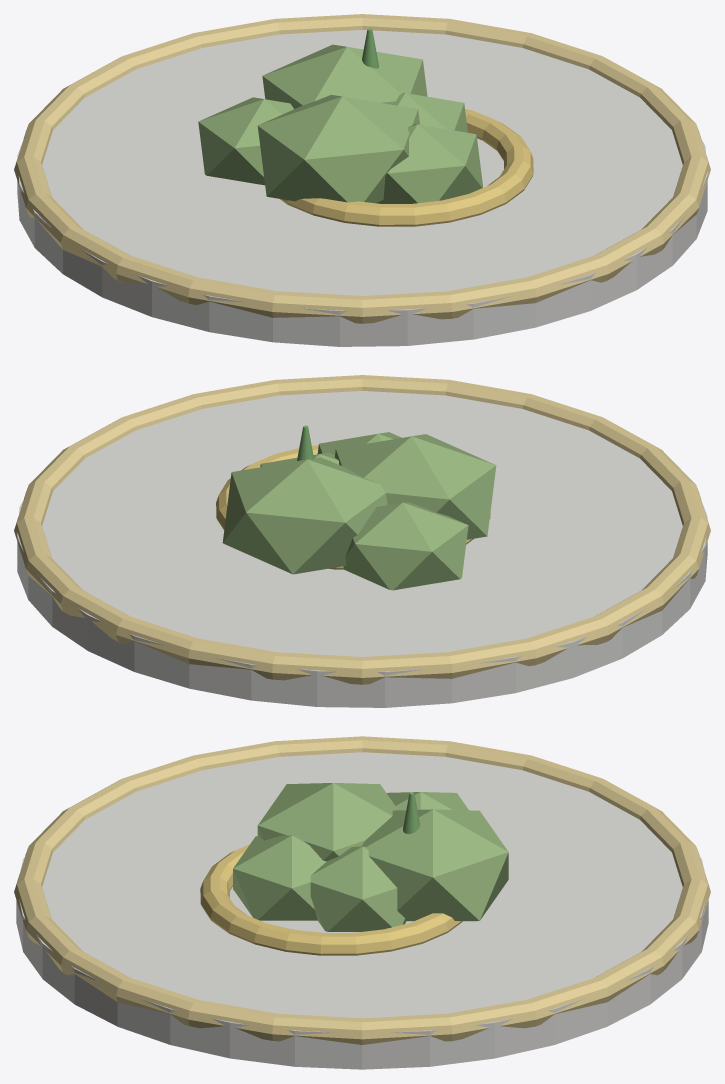
The model's file is dish_veg.glb.
The picture shows the model from 3 angles, top to bottom: view 1: azimuth 30°, elevation 25°; view 2: azimuth 150°, elevation 25°; view 3: azimuth 270°, elevation 25°; orthographic projection.
Parts seen in each view (by area): view 1: plate_base, plate_rim, Icosphere.003, sauce_swirl, Icosphere.001, Icosphere.004, Icosphere.002, Icosphere; view 2: plate_base, plate_rim, Icosphere.001, Icosphere.003, Icosphere.002, sauce_swirl, Icosphere.004; view 3: plate_base, plate_rim, Icosphere.001, sauce_swirl, Icosphere.003, Icosphere.004, Icosphere, Icosphere.002.
Part boxes in pixels (left/top/right/bottom): plate_base: left=17, top=30, right=707, bottom=346; plate_rim: left=14, top=14, right=710, bottom=323; Icosphere.003: left=257, top=95, right=419, bottom=203; sauce_swirl: left=280, top=109, right=533, bottom=226; Icosphere.001: left=262, top=44, right=427, bottom=108; Icosphere.004: left=376, top=124, right=482, bottom=203; Icosphere.002: left=198, top=97, right=293, bottom=185; Icosphere: left=391, top=93, right=467, bottom=132; plate_base: left=17, top=391, right=707, bottom=707; plate_rim: left=14, top=375, right=710, bottom=684; Icosphere.001: left=222, top=457, right=387, bottom=574; Icosphere.003: left=334, top=434, right=496, bottom=539; Icosphere.002: left=343, top=502, right=468, bottom=590; sauce_swirl: left=216, top=445, right=490, bottom=569; Icosphere.004: left=317, top=432, right=401, bottom=454; plate_base: left=16, top=752, right=708, bottom=1069; plate_rim: left=14, top=736, right=710, bottom=1044; Icosphere.001: left=361, top=809, right=508, bottom=921; sauce_swirl: left=200, top=844, right=462, bottom=955; Icosphere.003: left=257, top=783, right=397, bottom=861; Icosphere.004: left=233, top=835, right=326, bottom=920; Icosphere: left=310, top=846, right=406, bottom=931; Icosphere.002: left=386, top=792, right=468, bottom=810.
Size of the model in its own units: 0.282 by 0.065 by 0.282.
